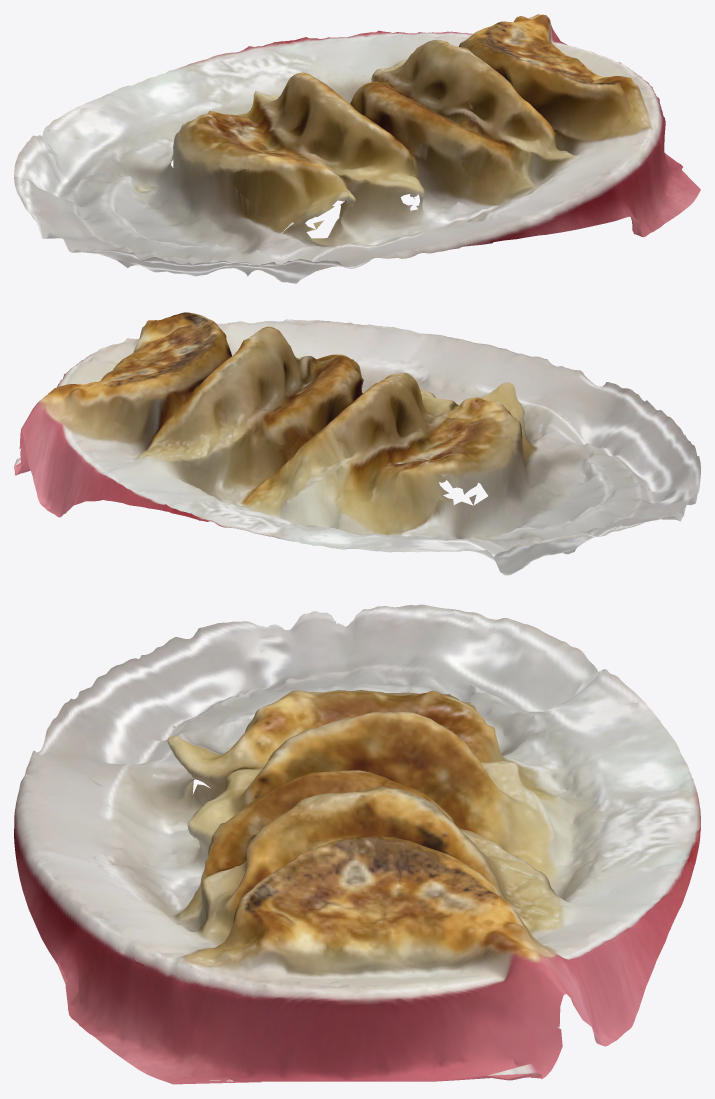
Rendered from gyozas.glb.
3 views of the same model, one above another, from view 1: azimuth 30°, elevation 25°; view 2: azimuth 150°, elevation 25°; view 3: azimuth 270°, elevation 25° (orthographic). The views are drawn at different scales.
Parts seen in each view (by area): view 1: Object_2; view 2: Object_2; view 3: Object_2.
Part boxes in pixels (x1,y1,x2,y2): Object_2: (14,14,700,283); Object_2: (14,312,700,575); Object_2: (14,604,700,1084).
Size of the model in its own units: 0.2298 by 0.0487 by 0.1679.
Materials: 1 (1 with a texture image).
